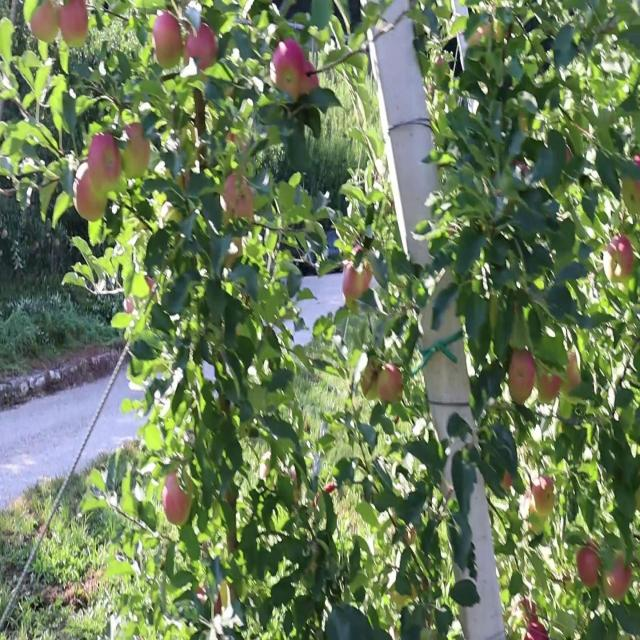apple: (72, 163, 108, 226), (272, 35, 304, 103), (88, 135, 123, 187), (152, 14, 183, 69), (224, 170, 256, 222), (124, 120, 152, 178), (184, 21, 216, 71), (508, 348, 536, 405), (164, 476, 192, 528), (60, 0, 90, 48), (344, 255, 373, 304), (604, 554, 632, 604), (376, 362, 404, 407), (608, 234, 636, 277), (196, 21, 219, 73), (528, 476, 557, 517), (576, 547, 602, 590), (32, 7, 60, 44), (184, 21, 208, 64), (536, 369, 562, 405), (300, 56, 321, 98), (200, 583, 224, 619), (564, 348, 582, 395), (624, 156, 640, 203), (360, 362, 378, 400), (516, 597, 536, 622), (528, 618, 548, 639), (216, 584, 227, 617), (632, 156, 640, 201), (504, 469, 513, 491)
